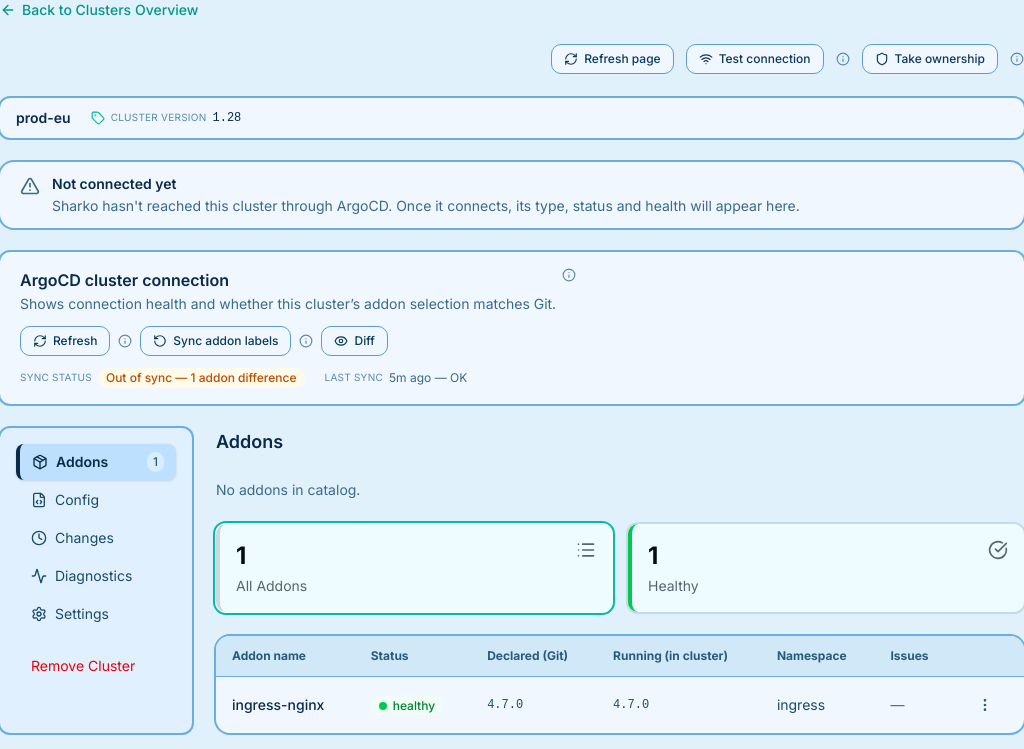
Test: ClusterDetail — label drift diff (V3 G2) › shows a plain-words sentence + the raw keys when label_drift.removed is populated
This screenshot has width=1024, height=749.
Check: the heading "prod-eu" is shown, box [16,108,71,128]
Click the button "Diff".
click(355, 341)  # box [322,326,388,356]
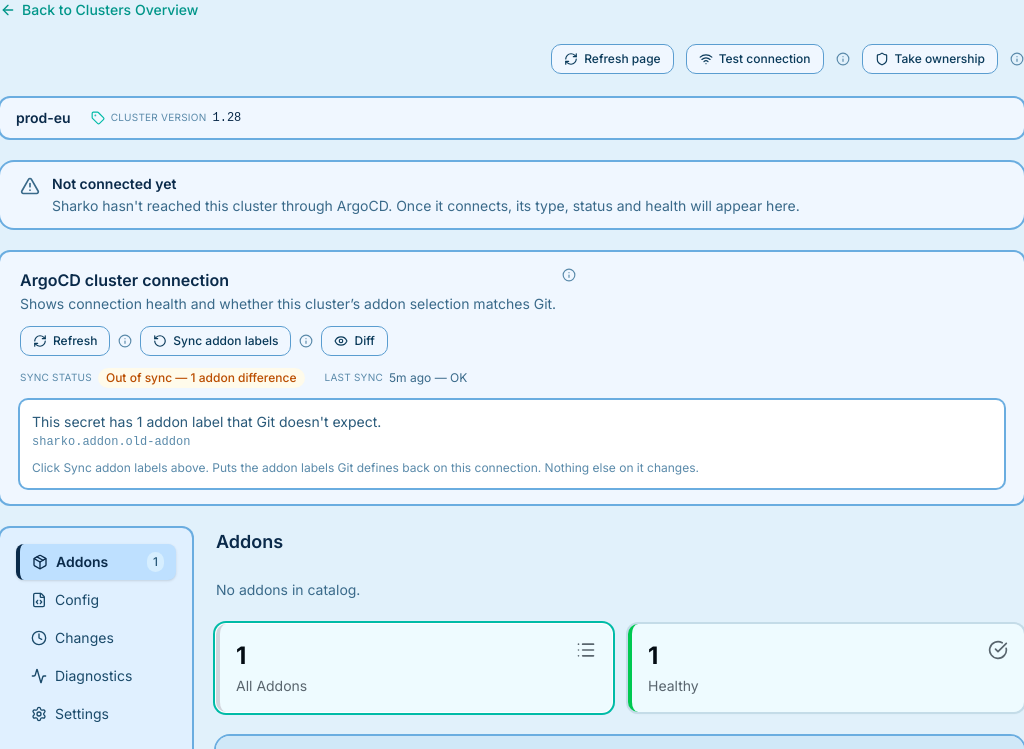
Check: the text "This secret has 1 addon label that Git doesn't expect." is shown, box [32,413,381,430]
Check: the text "sharko.addon.old-addon" is shown, box [32,435,190,449]
